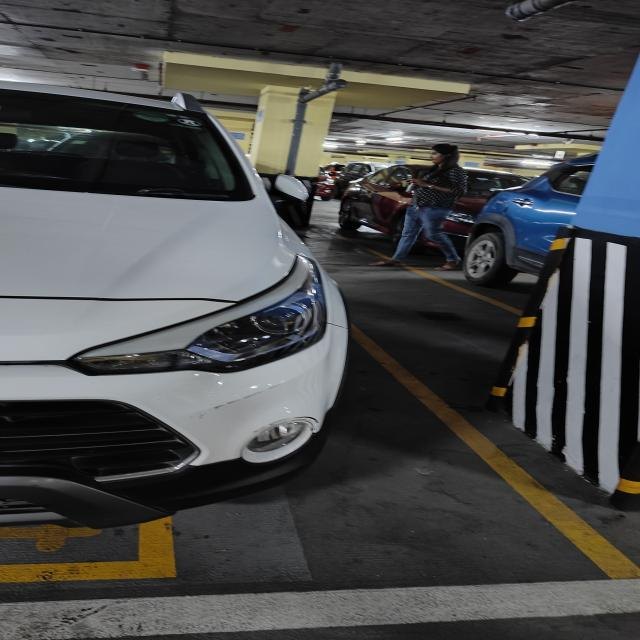scratch: (193, 379, 313, 414)
